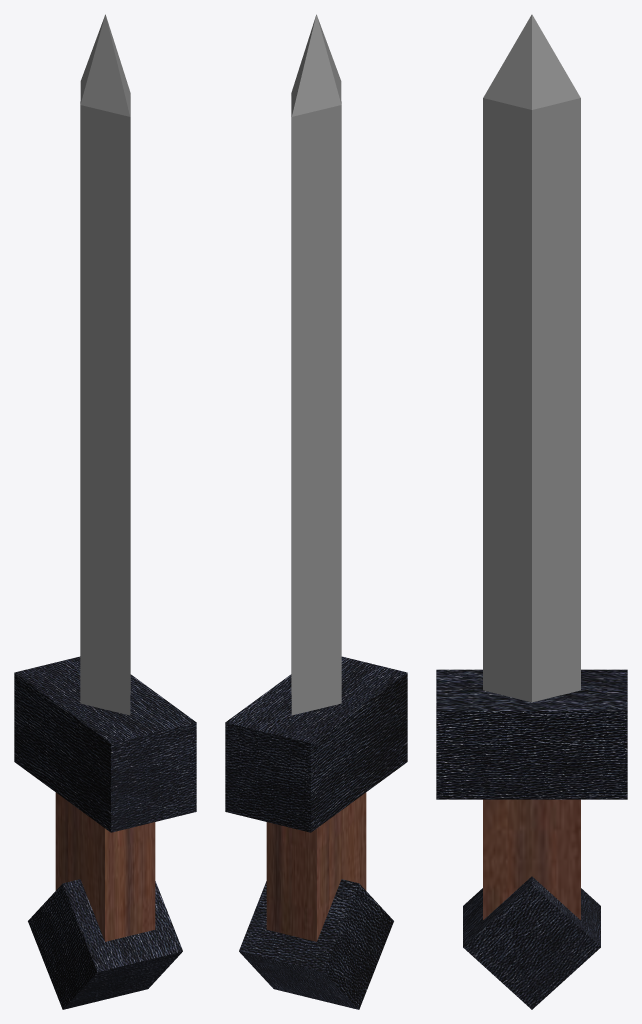
The model's file is Espada.fbx.
3 views of the same model, side by side, from view 1: azimuth 30°, elevation 25°; view 2: azimuth 150°, elevation 25°; view 3: azimuth 270°, elevation 25° (orthographic).
Parts seen in each view (by area): view 1: Metal; view 2: Metal; view 3: Metal.
Part boxes in pixels (left/top/right/bottom): Metal: left=14, top=14, right=196, bottom=1009; Metal: left=225, top=14, right=407, bottom=1009; Metal: left=436, top=14, right=627, bottom=1009.
Size of the model in its own units: 200 by 2202 by 391.
